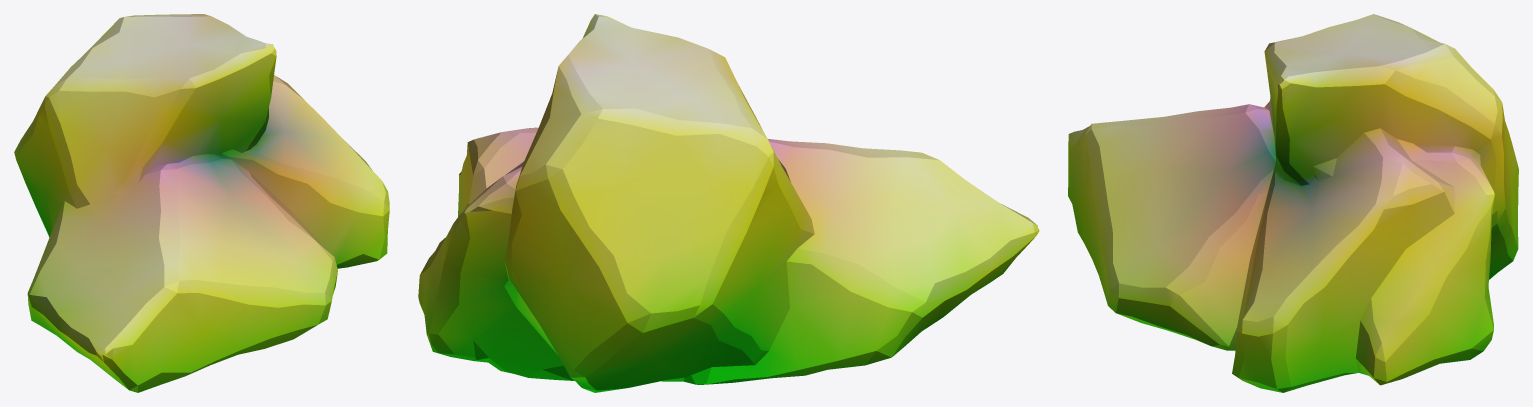
The model's file is rock_group_02_LOD0.fbx.
3 views of the same model, side by side, from view 1: azimuth 30°, elevation 25°; view 2: azimuth 150°, elevation 25°; view 3: azimuth 270°, elevation 25° (orthographic). The views are drawn at different scales.
Parts seen in each view (by area): view 1: LOD0; view 2: LOD0; view 3: LOD0.
Part boxes in pixels (x1=…): LOD0: x1=14, y1=14, x2=389, y2=392; LOD0: x1=418, y1=14, x2=1039, y2=392; LOD0: x1=1068, y1=14, x2=1518, y2=392.
Bounding box in the file's own units: 368 × 213 × 337.
